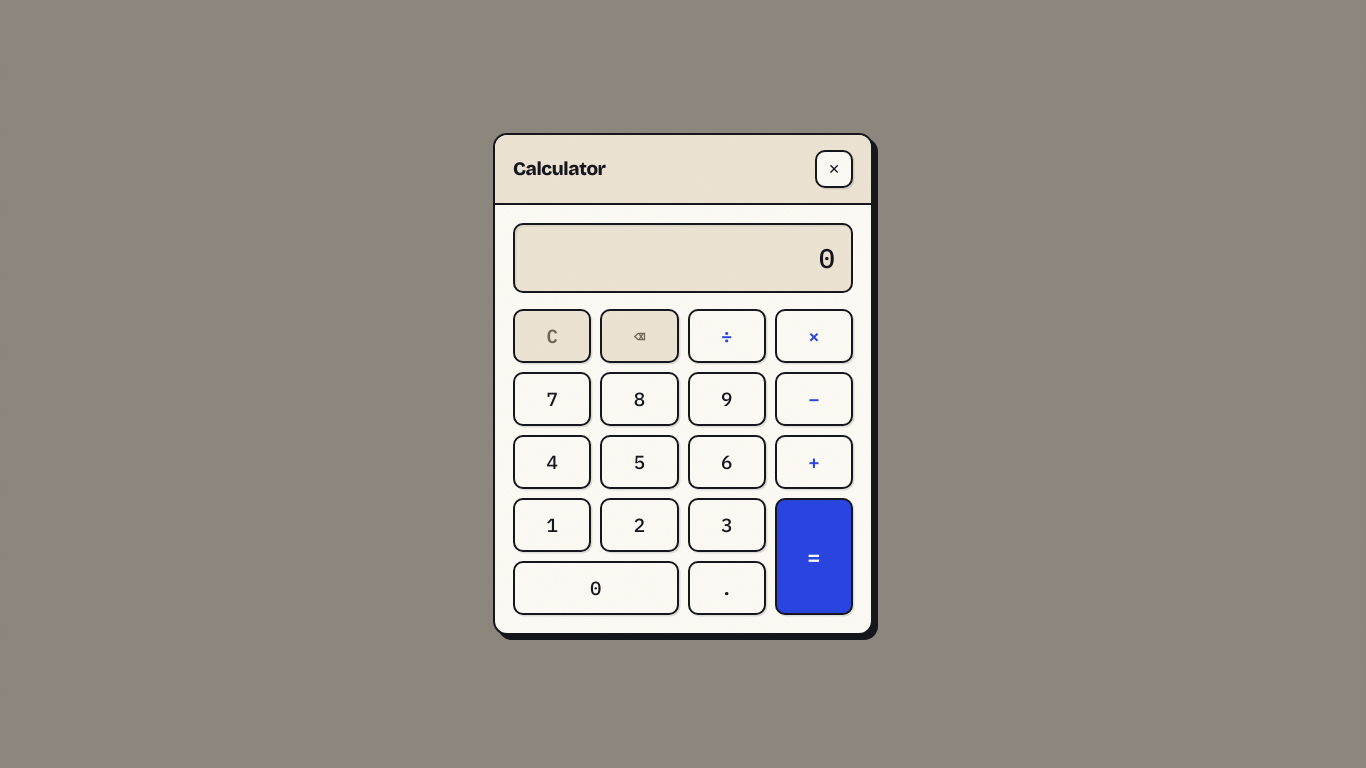
Scenario: Calculator UI › honors precedence across on-screen buttons
Click the button "2" at (639, 525), box [600, 498, 679, 552]
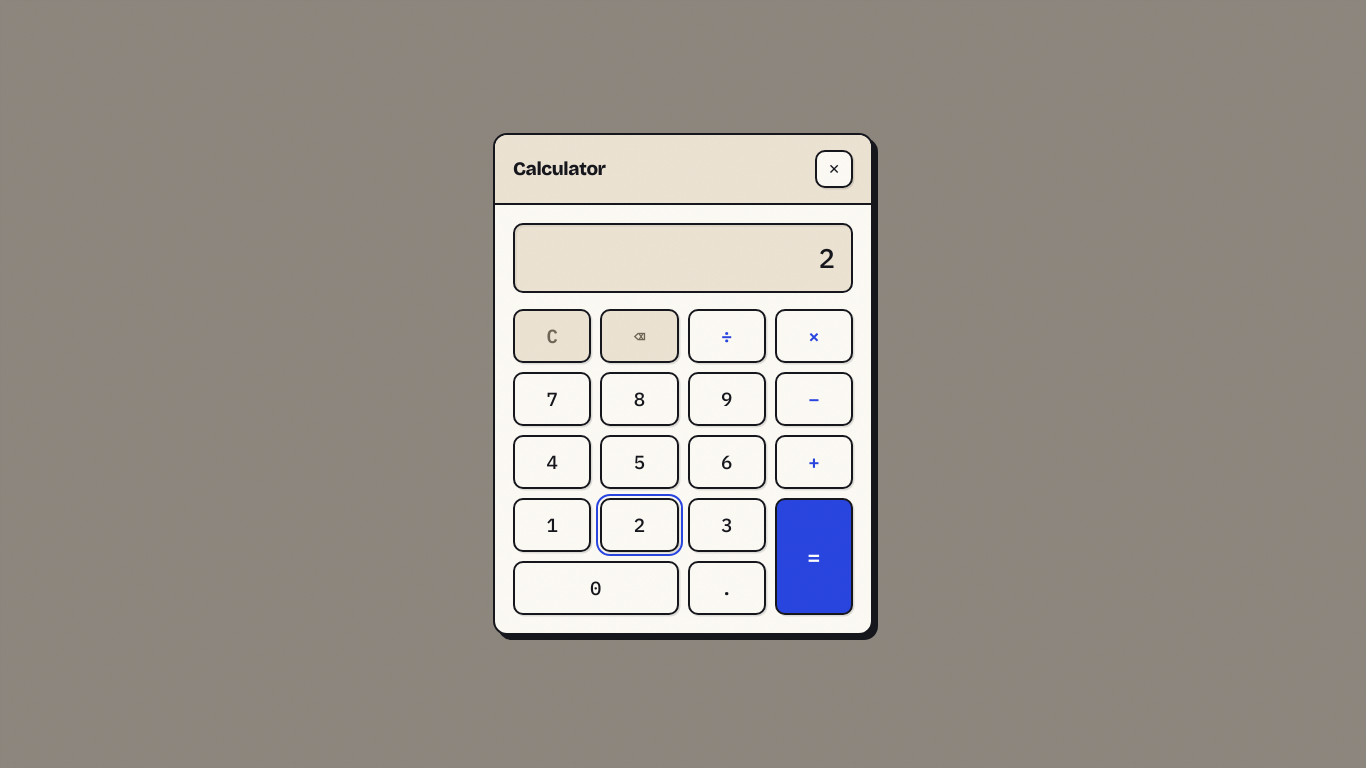
Click the button "+" at (814, 462), box [775, 435, 853, 489]
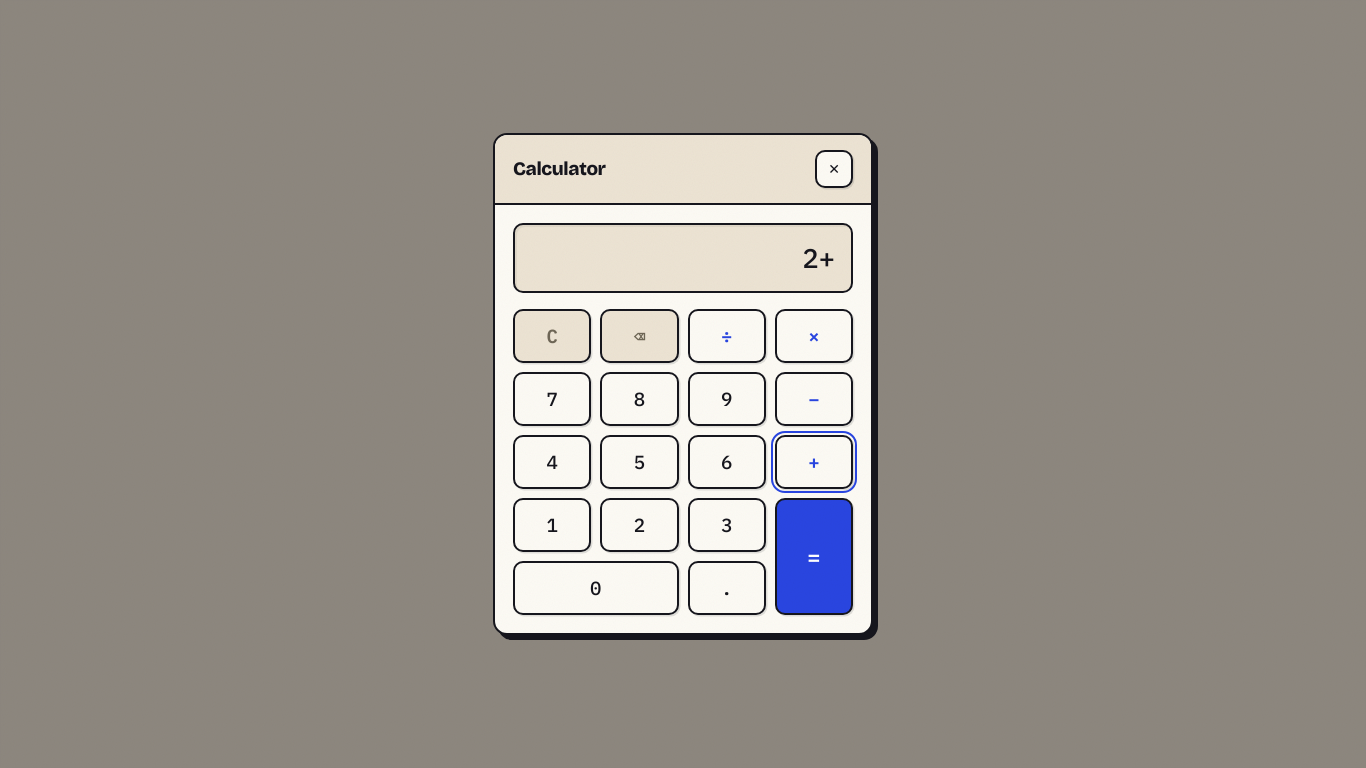
Click the button "3" at (727, 525), box [688, 498, 766, 552]
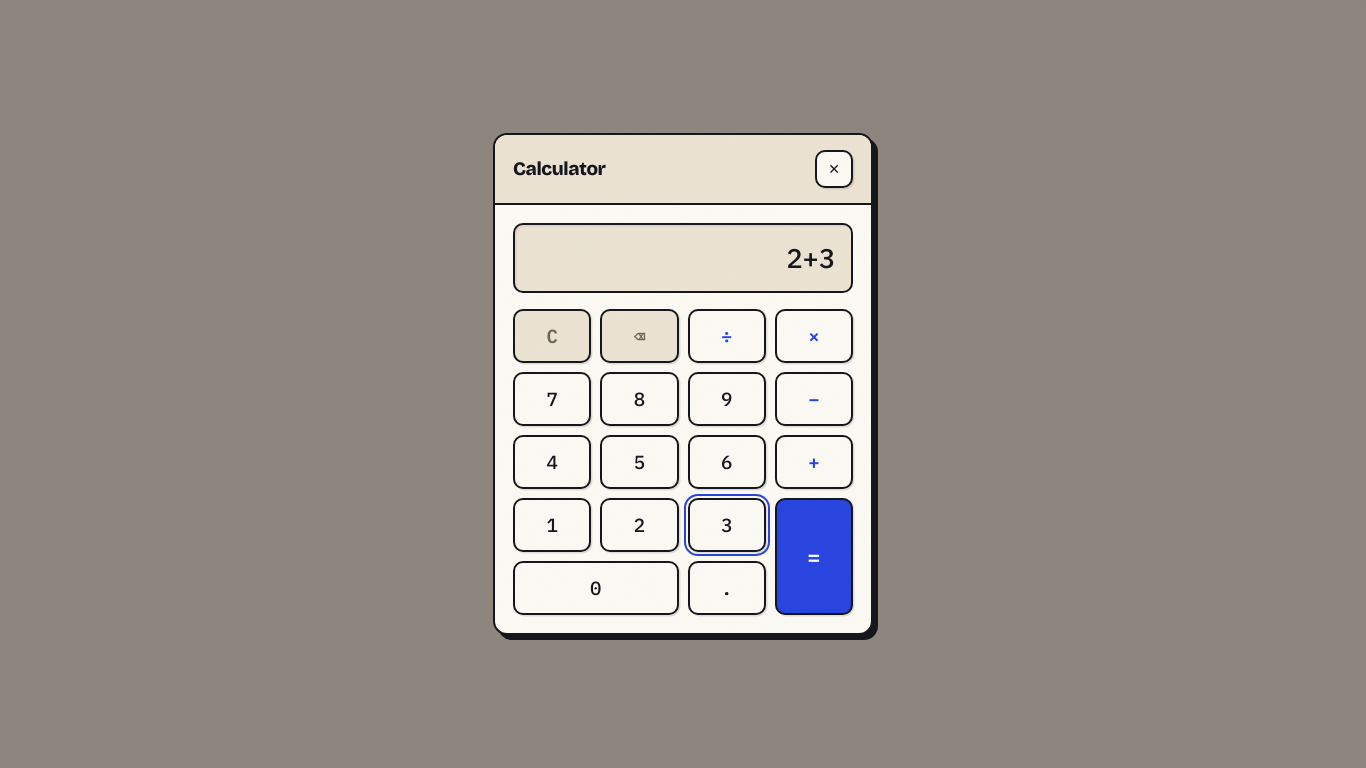
Click the button "×" at (814, 336), box [775, 309, 853, 363]
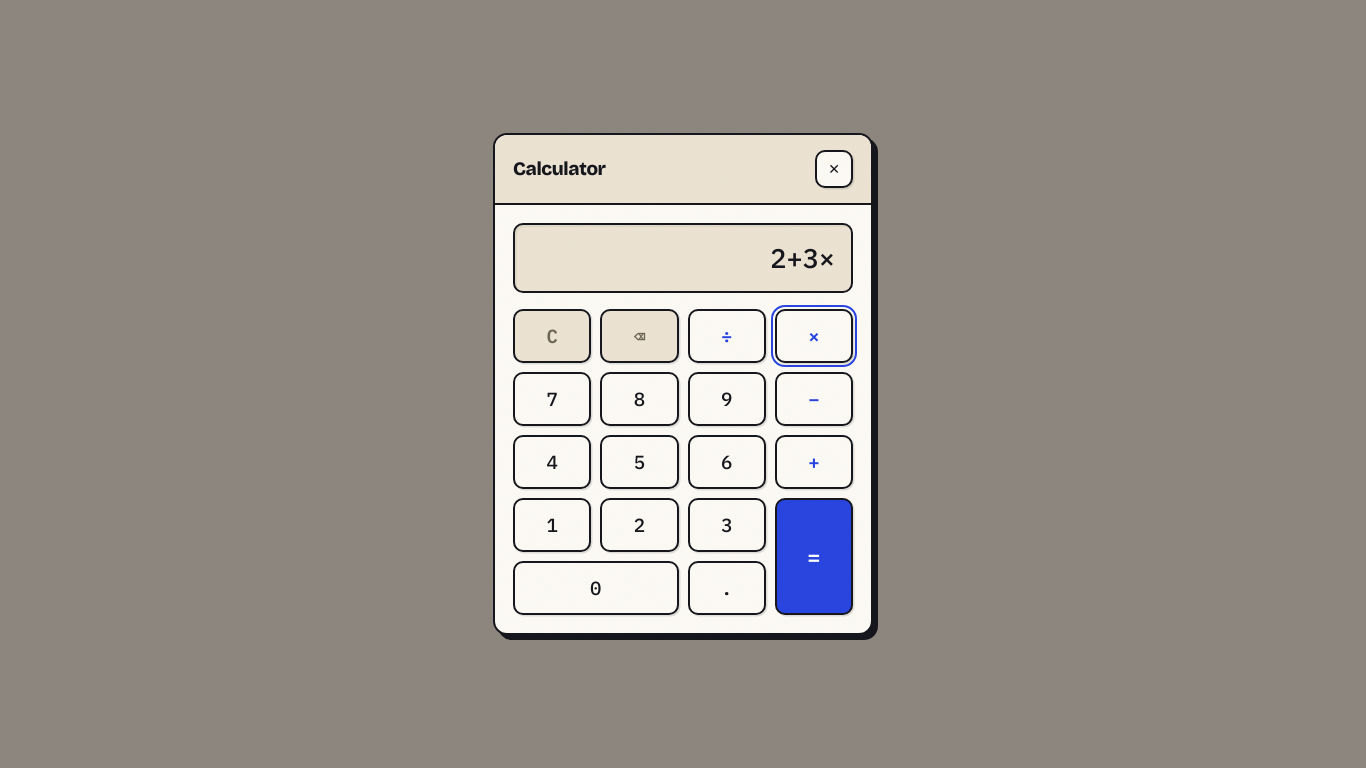
Click the button "4" at (552, 462), box [513, 435, 591, 489]
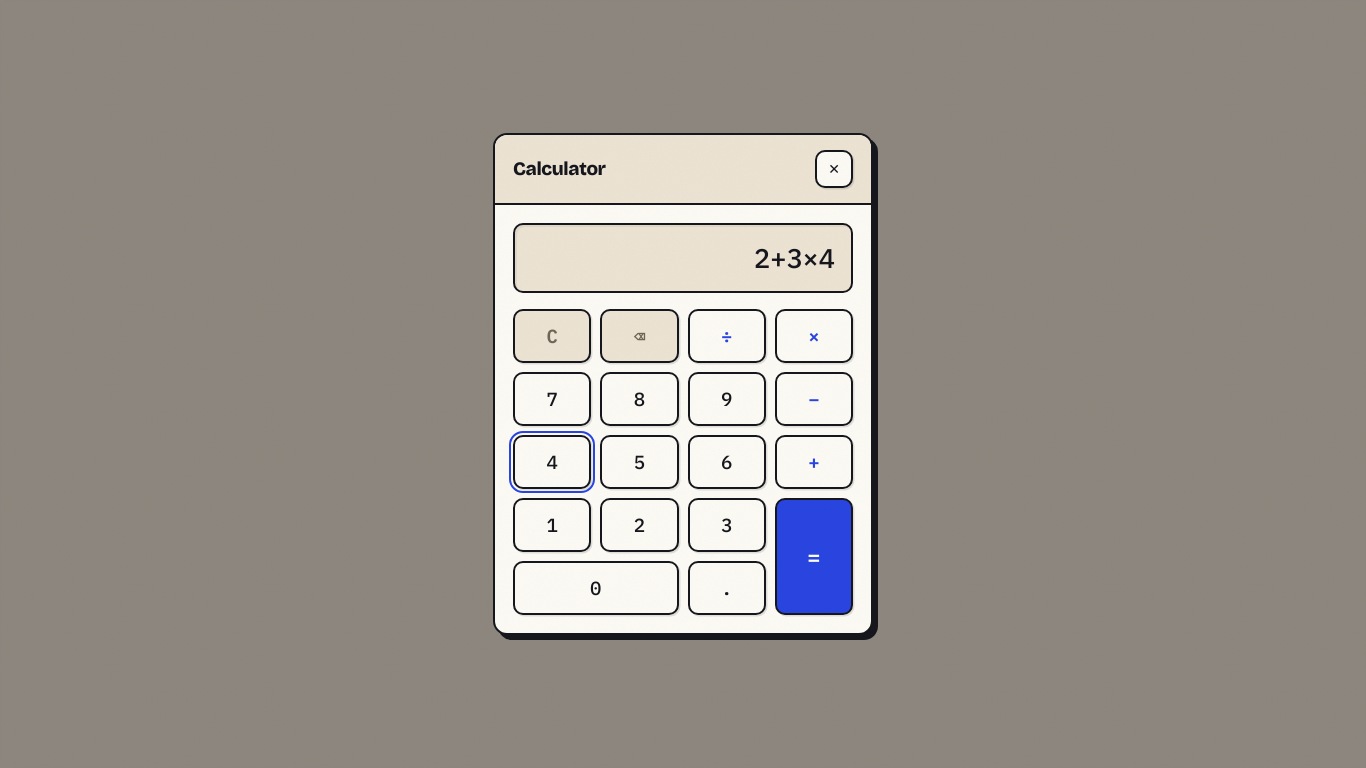
Click the button "=" at (814, 556), box [775, 498, 853, 615]
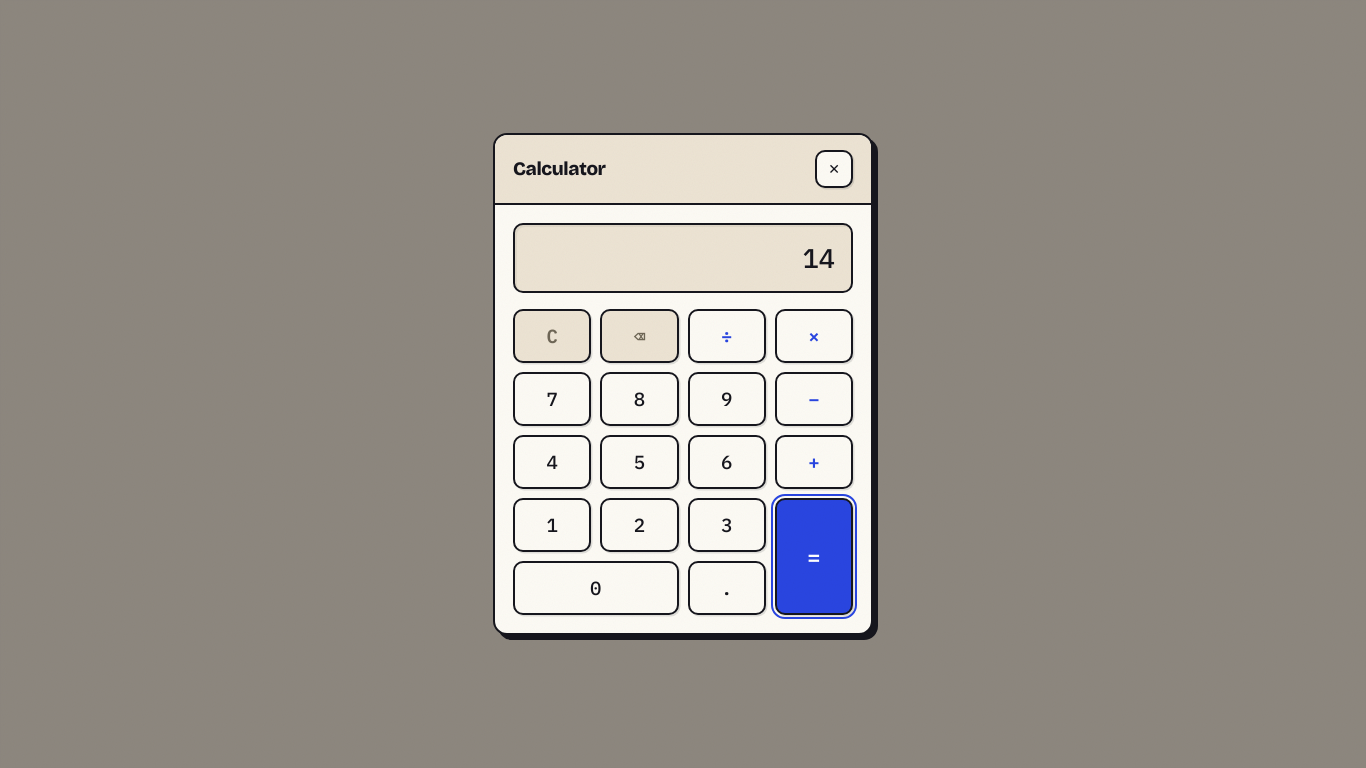
Expected: the text with test id "calc-display" reads "14", [803, 240, 835, 275]
